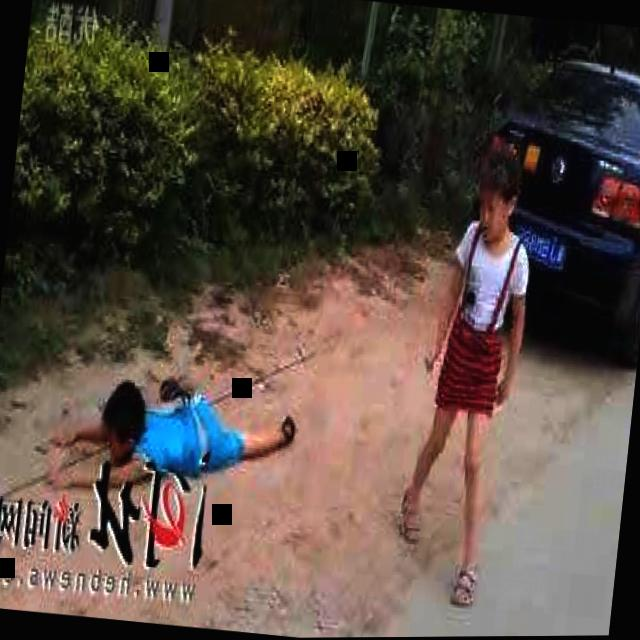Fall-Detected: (44, 339, 310, 502)
